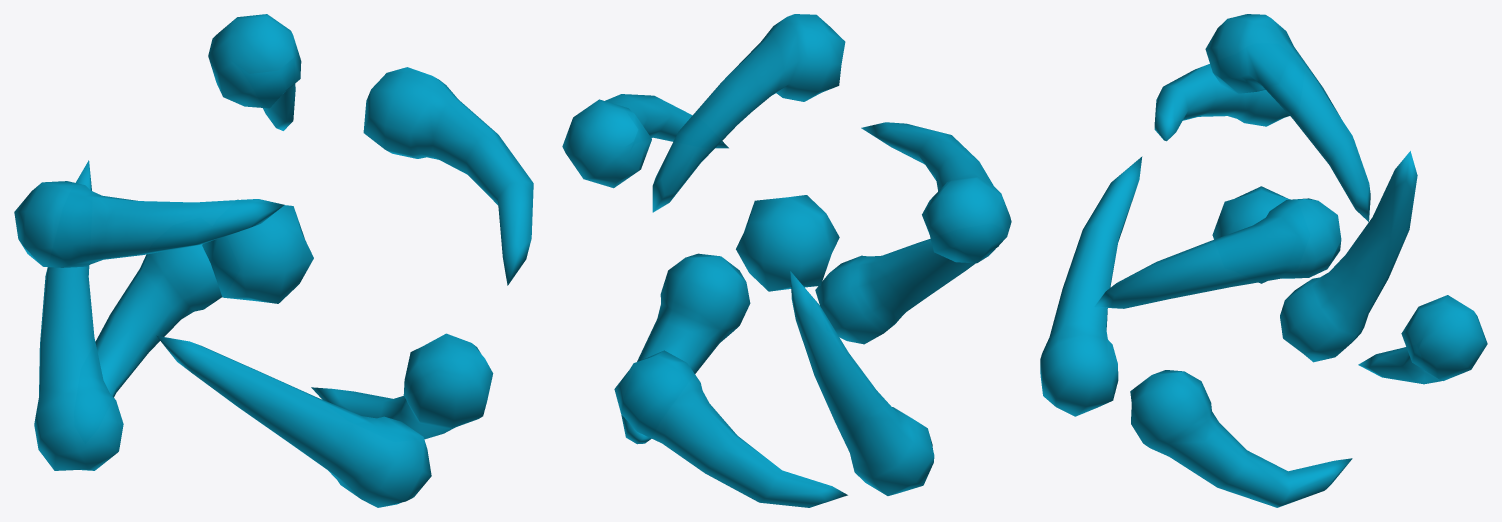
The model's file is energy-star-8.obj.
3 views of the same model, side by side, from view 1: azimuth 30°, elevation 25°; view 2: azimuth 150°, elevation 25°; view 3: azimuth 270°, elevation 25° (orthographic). The views are drawn at different scales.
Parts seen in each view (by area): view 1: EnergyStar; view 2: EnergyStar; view 3: EnergyStar.
Boxes of the visible parts, box(x1,y1,x2,y2) form: EnergyStar: box(14, 14, 533, 507); EnergyStar: box(562, 14, 1011, 507); EnergyStar: box(1040, 14, 1487, 507).
Bounding box in the file's own units: 2.09 × 2.05 × 1.97.
